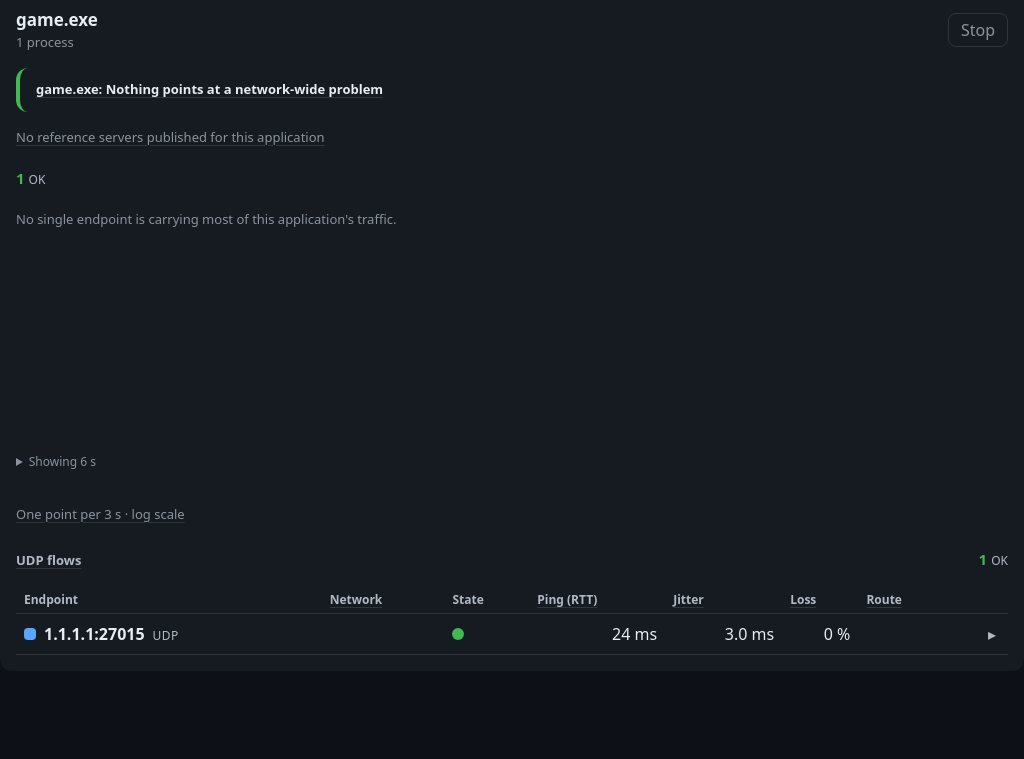
Test: AppCard › falls back to the bare address when no adapter claims it
Click the button "▸": (992, 634) [984,622,1000,646]
(page scrolled)
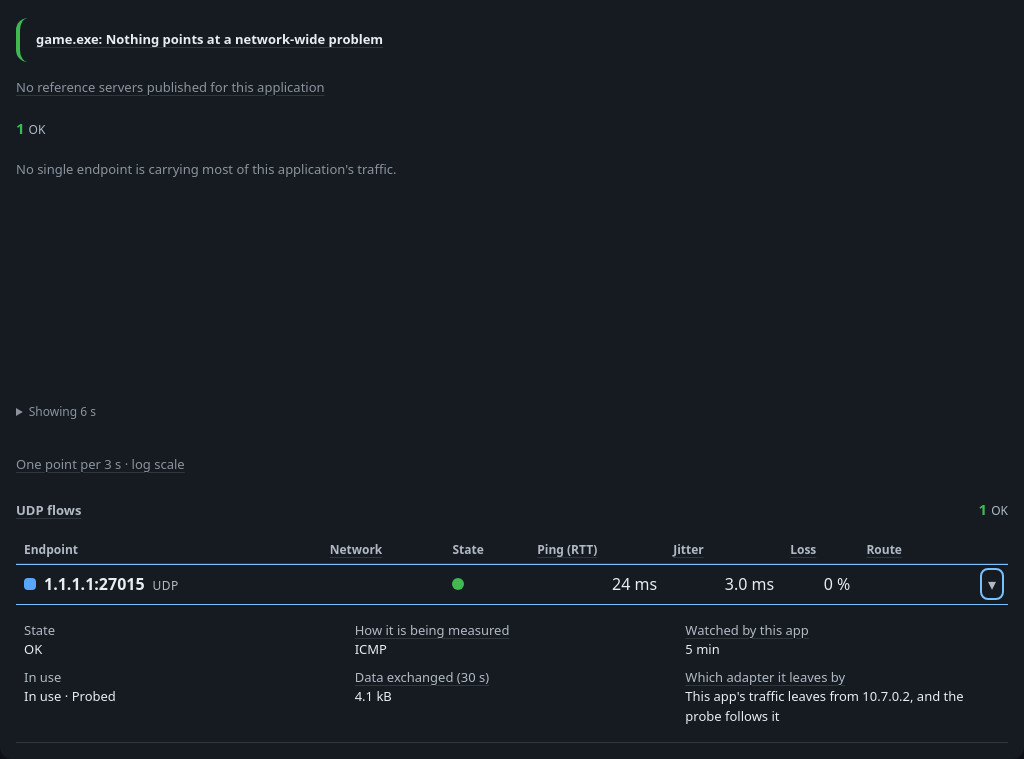
Expected: the text "leaves from 10.7.0.2" is shown, [685,687,964,725]
